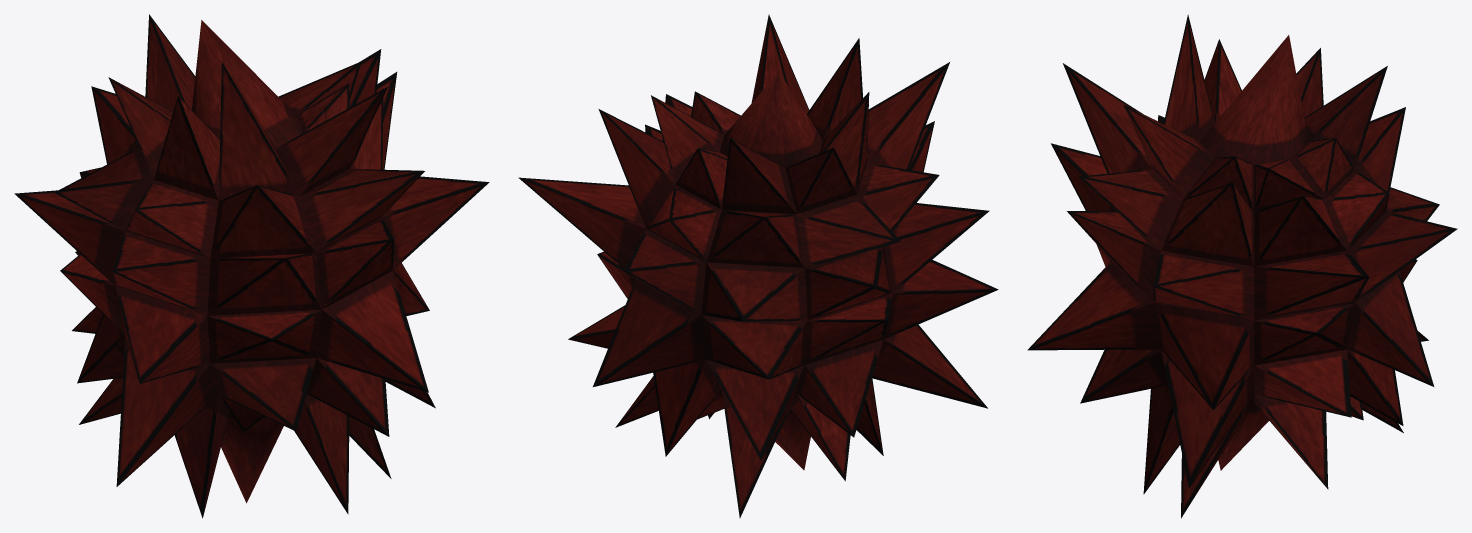
The model's file is Urchin.fbx.
3 views of the same model, side by side, from view 1: azimuth 30°, elevation 25°; view 2: azimuth 150°, elevation 25°; view 3: azimuth 270°, elevation 25° (orthographic). The views are drawn at different scales.
Visible parts, largest first — view 1: sphere1; view 2: sphere1; view 3: sphere1.
Boxes of the visible parts, <box> form: sphere1: <box>14,14,489,518</box>; sphere1: <box>518,14,998,518</box>; sphere1: <box>1027,14,1457,518</box>.
Bounding box in the file's own units: 8.01 × 8.97 × 8.
Materials: 1 (1 with a texture image).
